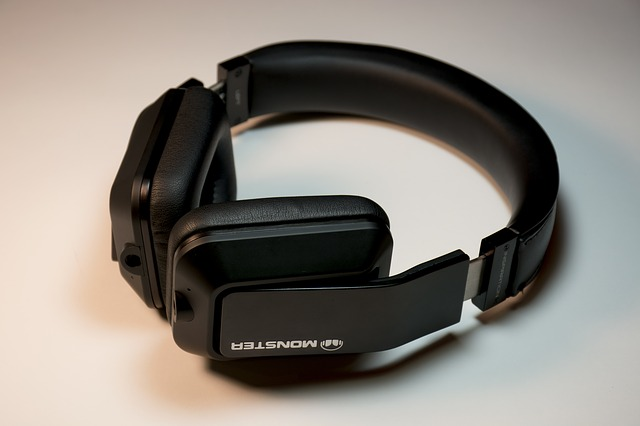headphones: (109, 40, 560, 363)
